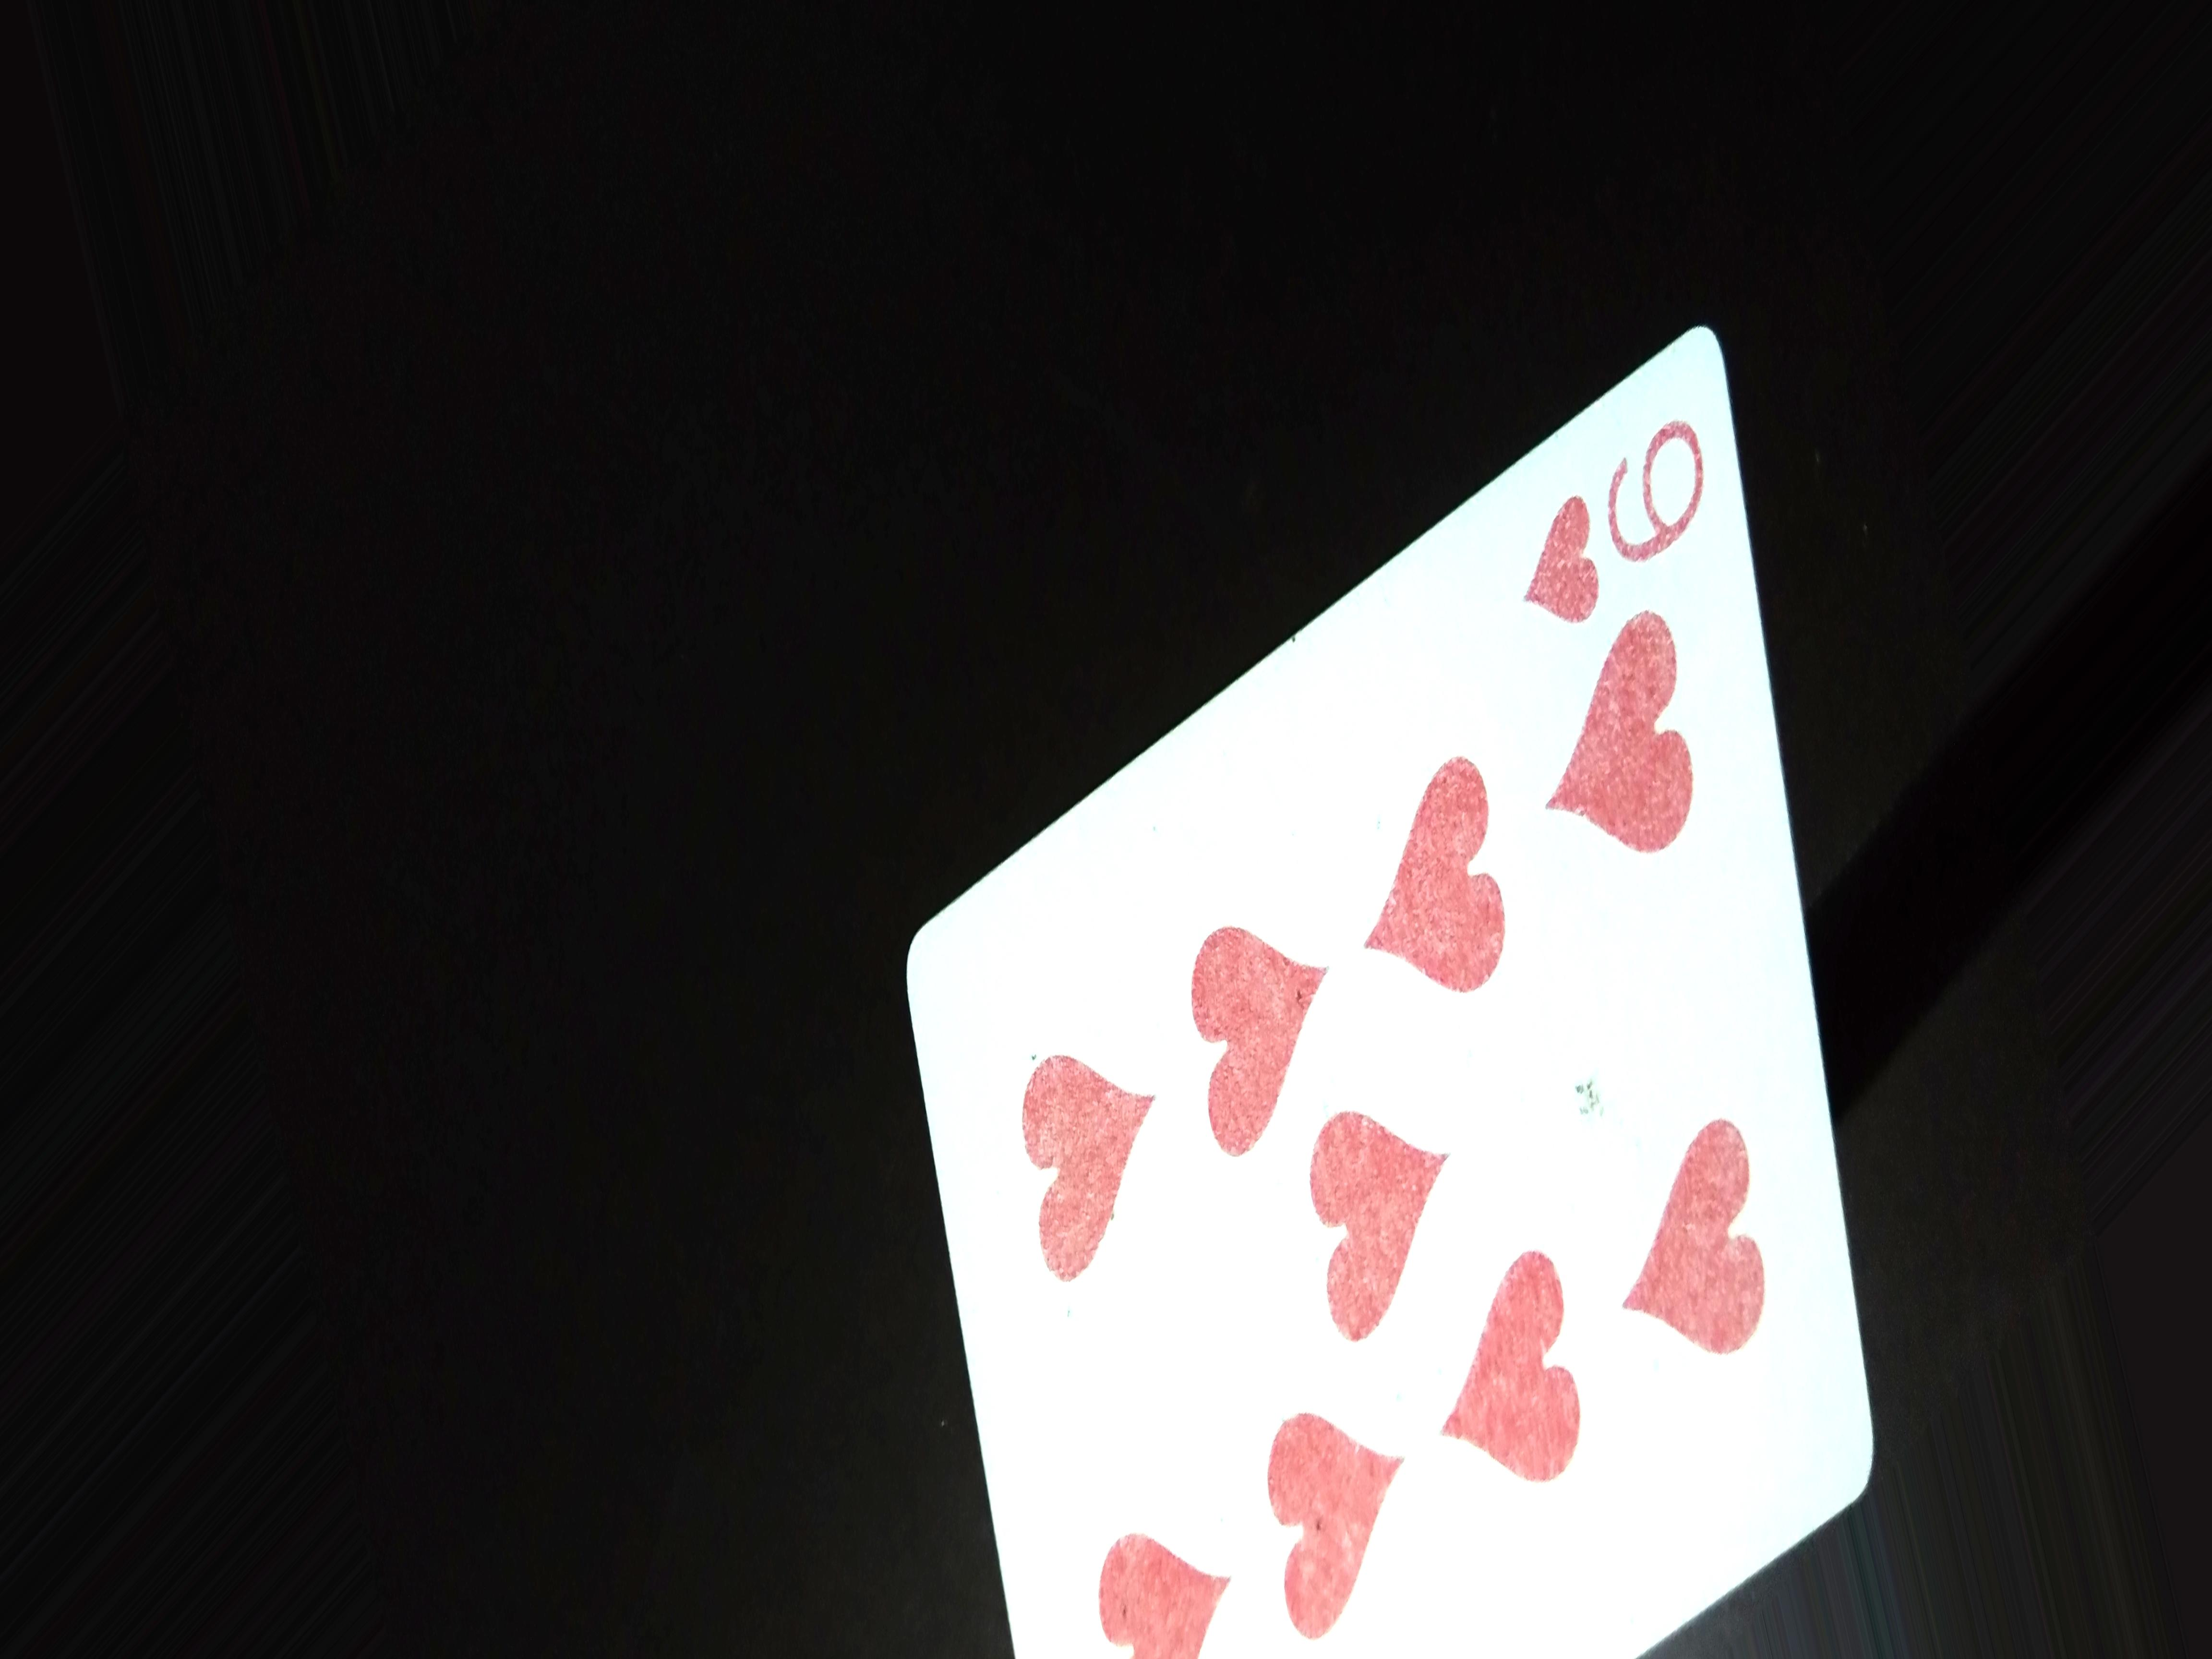9H: (1500, 390, 1707, 640)
